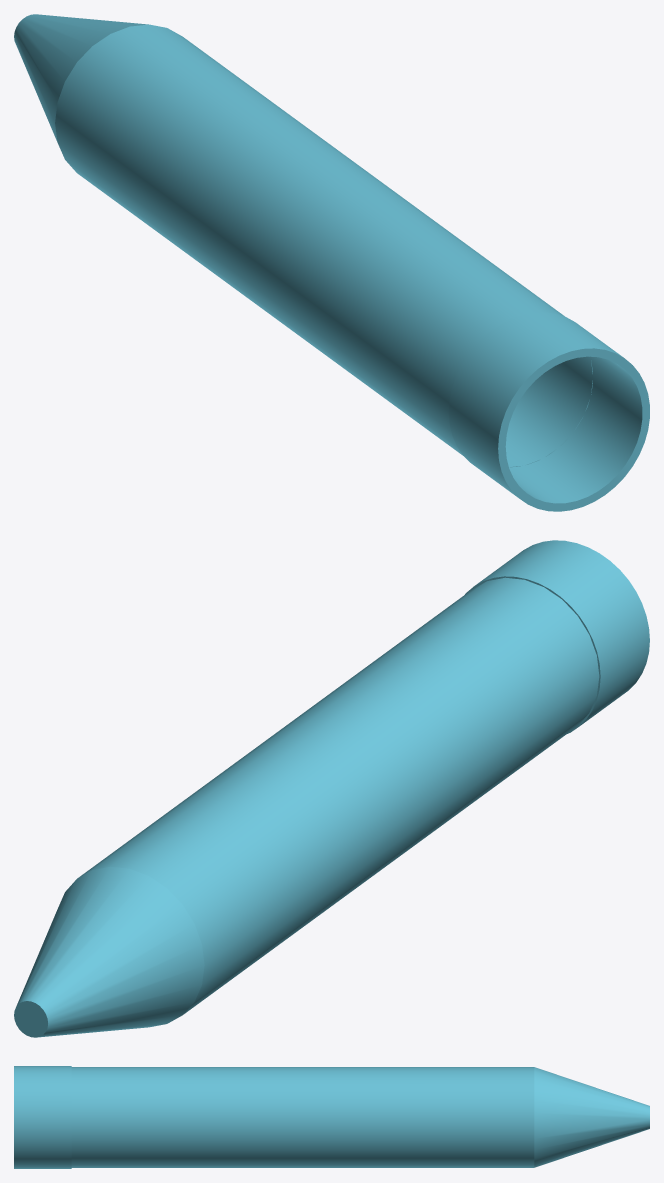
Rendered from polypropene-centrifugal-base-1.obj.
The picture shows the model from 3 angles, top to bottom: view 1: azimuth 30°, elevation 25°; view 2: azimuth 150°, elevation 25°; view 3: azimuth 270°, elevation 25°; orthographic projection. The views are drawn at different scales.
Parts seen in each view (by area): view 1: Body1, Body2; view 2: Body1, Body2; view 3: Body1, Body2.
Part boxes in pixels (x1,y1,x2,y2): Body1: (14, 14, 592, 467); Body2: (448, 312, 649, 511); Body1: (14, 577, 599, 1037); Body2: (465, 540, 649, 733); Body1: (71, 1067, 649, 1167); Body2: (14, 1066, 71, 1168).
Size of the model in its own units: 1.78 by 1.78 by 11.
